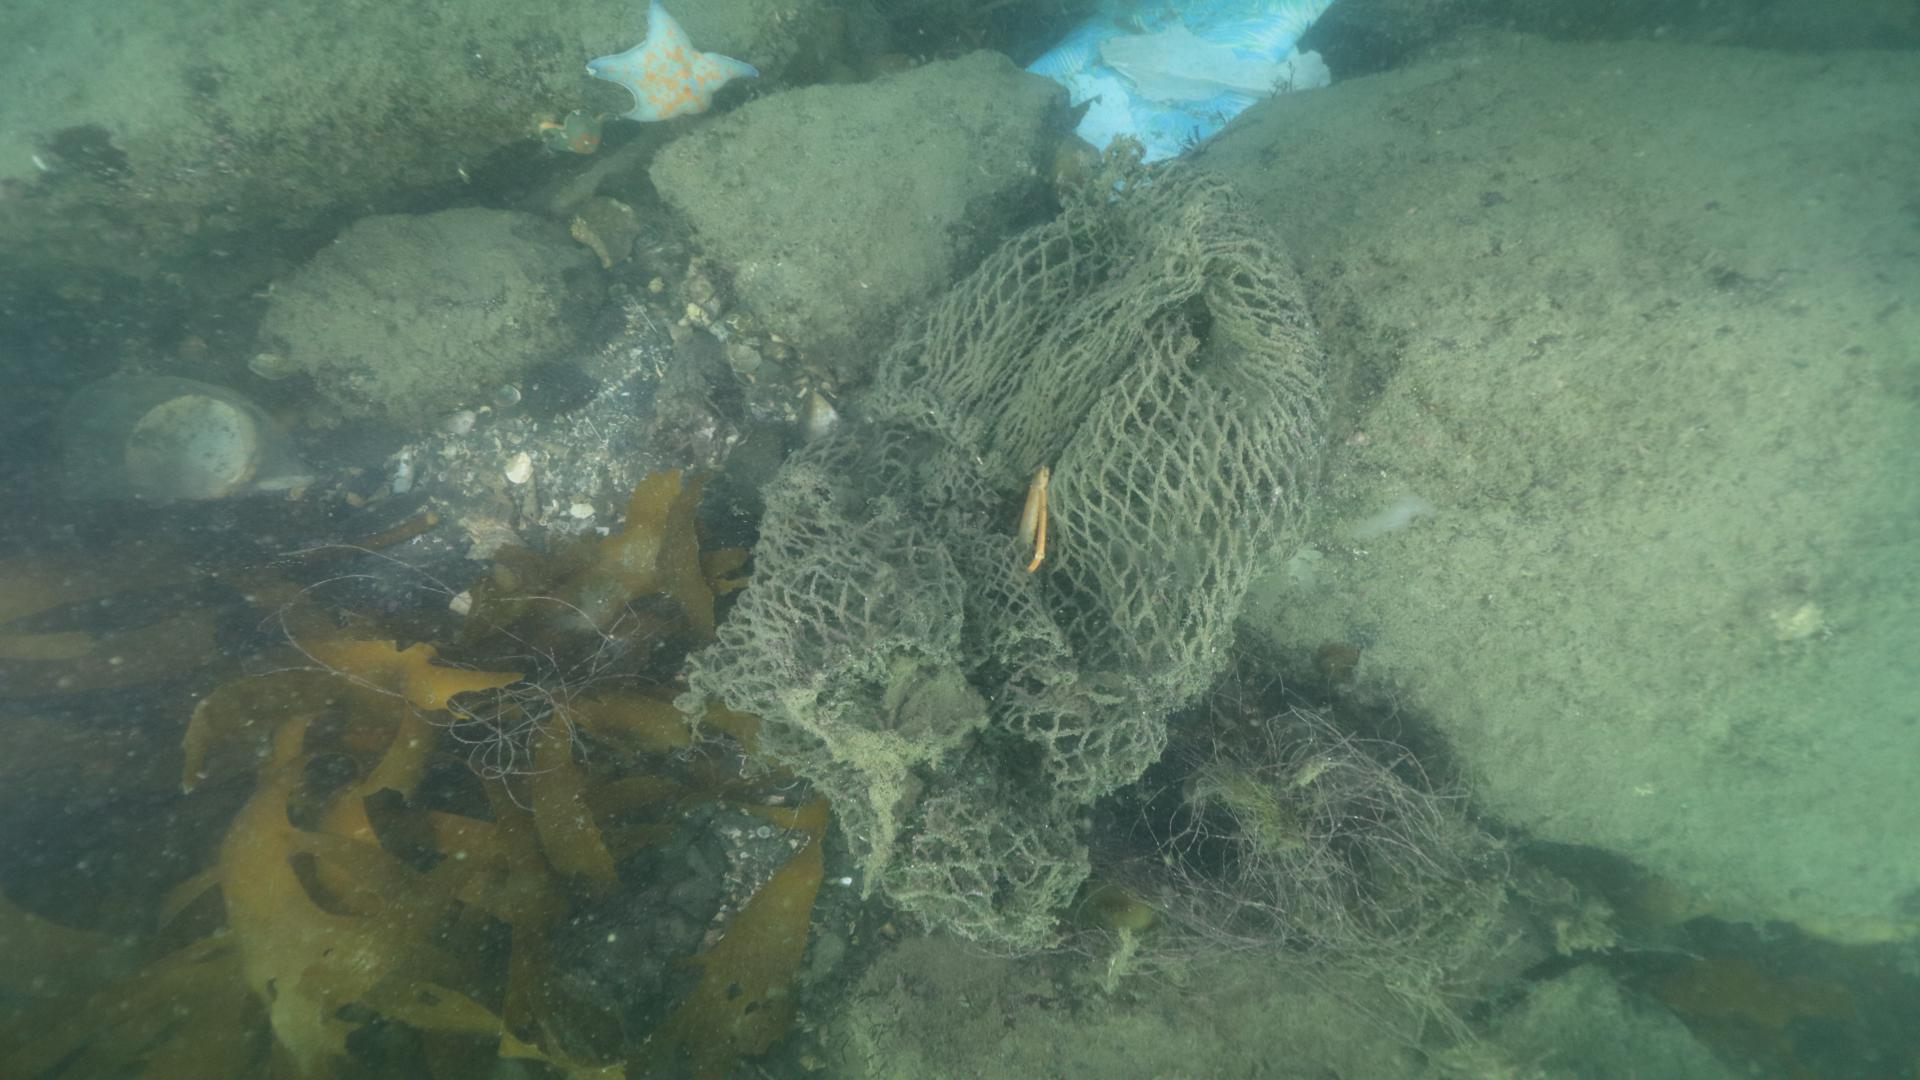fish net: (707, 156, 1335, 924)
